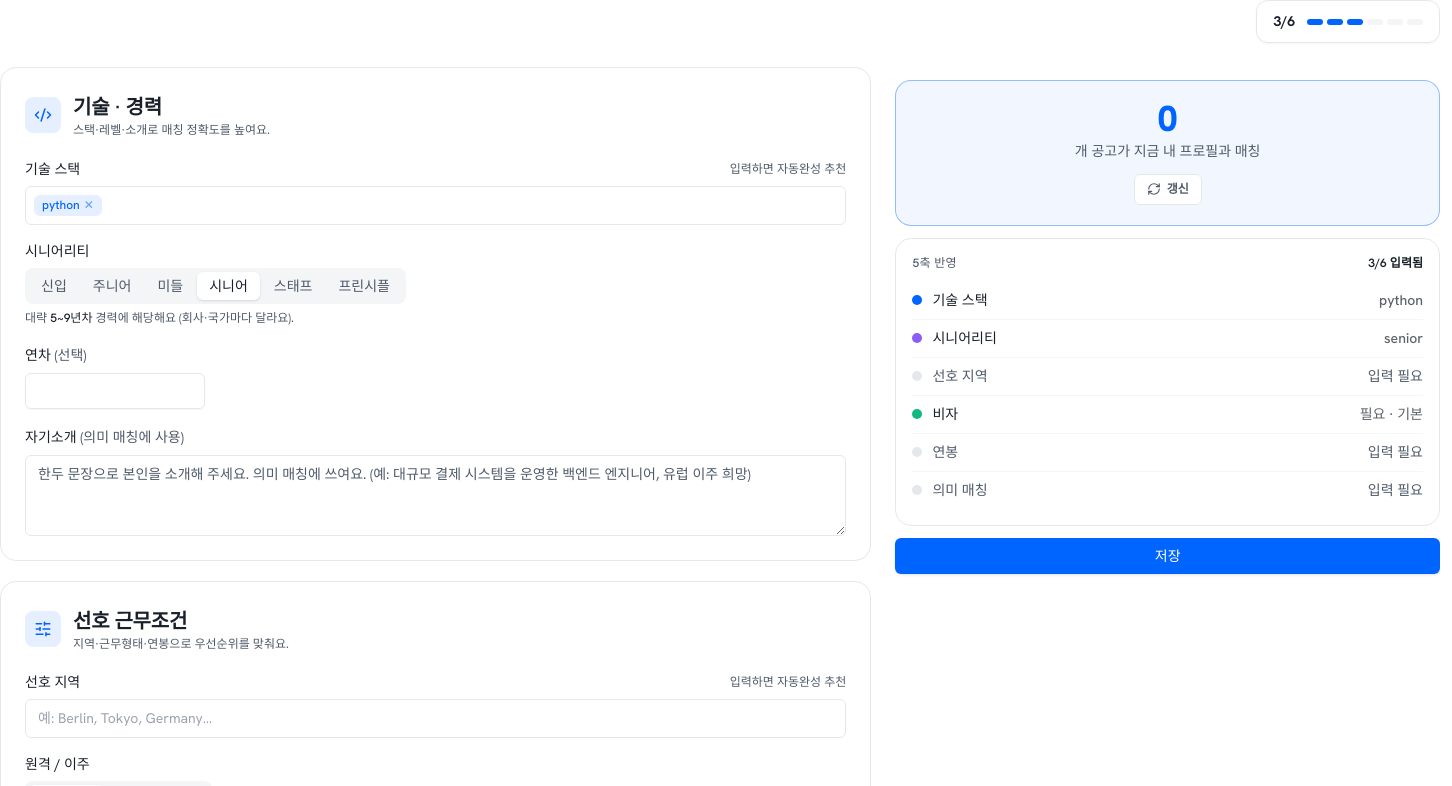
Test: ProfileEditor › keeps the plain form (no wizard) when a profile already exists, and saves via PUT
Click the button "저장". click: (1168, 556)
box: top-left (895, 538), bottom-right (1440, 574)
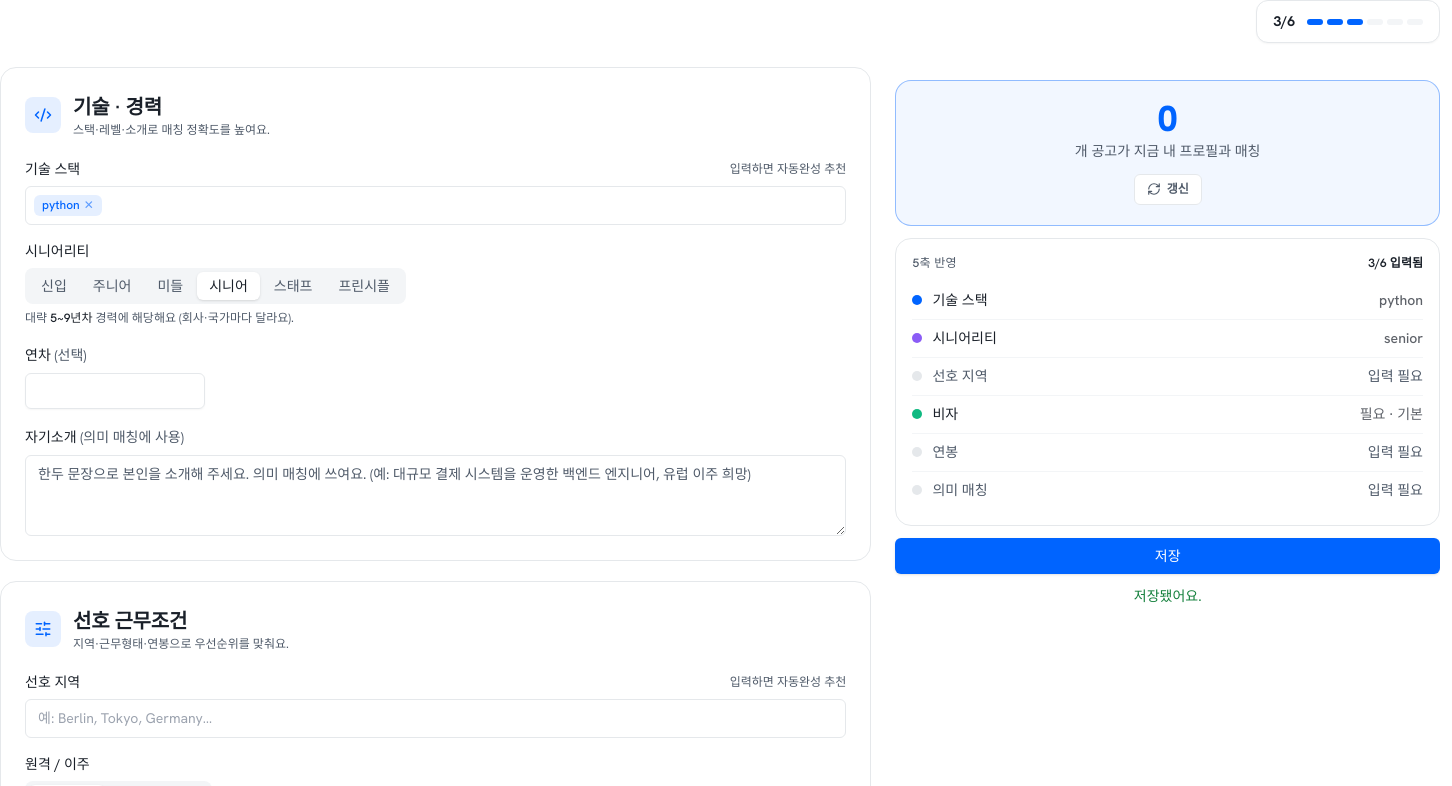
expect the text "저장됐어요." is shown: met, box top-left (1134, 587), bottom-right (1202, 605)
